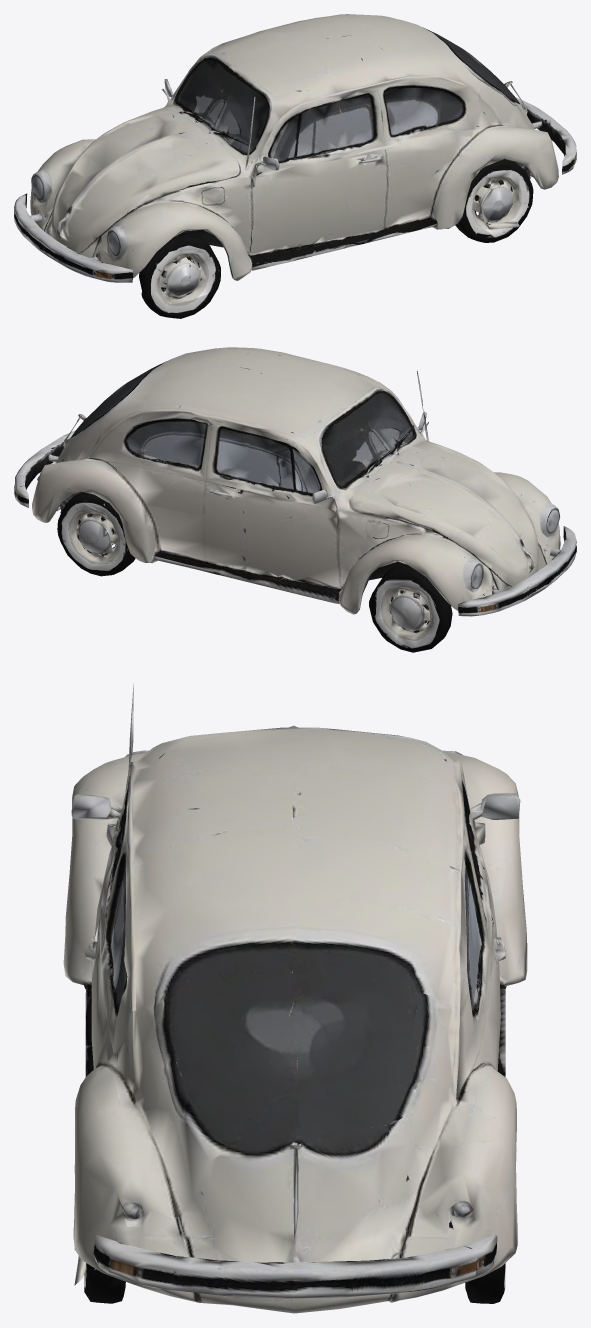
Rendered from ur_changer.glb.
3 renders of one model, top to bottom at view 1: azimuth 30°, elevation 25°; view 2: azimuth 150°, elevation 25°; view 3: azimuth 270°, elevation 25°, orthographic. The views are drawn at different scales.
Size of the model in its own units: 1.9 by 0.6945 by 0.7496.
Materials: 1 (1 with a texture image).
